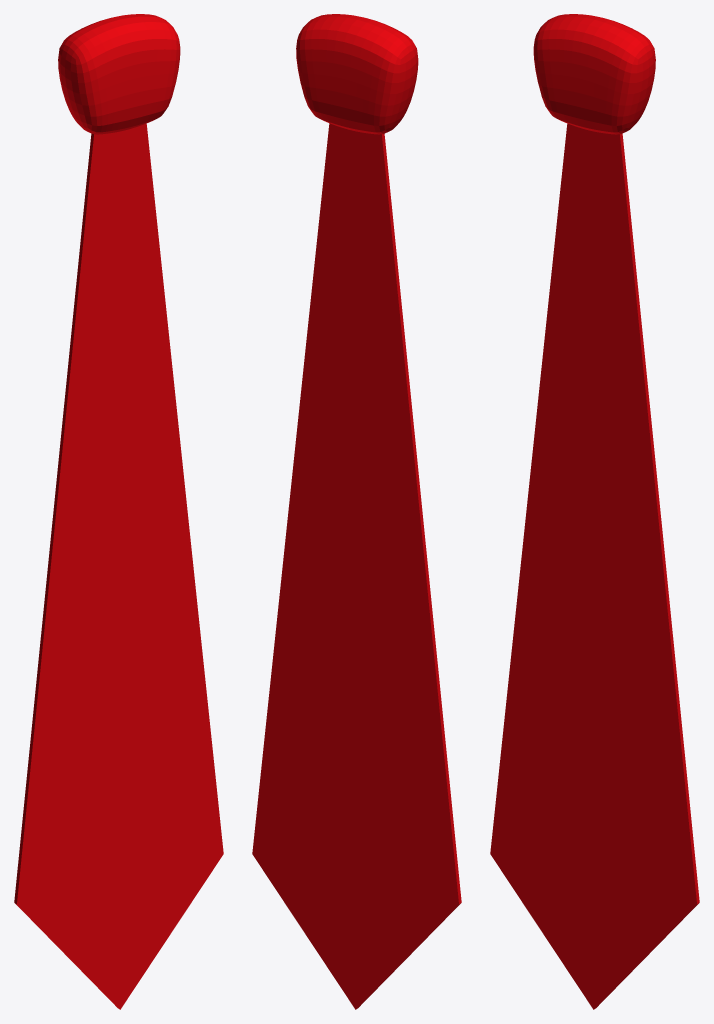
File: Neck Tie Asset.fbx
3 views of the same model, side by side, from view 1: azimuth 30°, elevation 25°; view 2: azimuth 150°, elevation 25°; view 3: azimuth 330°, elevation 25° (orthographic).
Parts seen in each view (by area): view 1: Neck Tie; view 2: Neck Tie; view 3: Neck Tie.
Boxes of the visible parts, x1,y1,x2,y2 form: Neck Tie: (14, 14, 223, 1009); Neck Tie: (252, 14, 461, 1009); Neck Tie: (490, 14, 699, 1009).
Bounding box in the file's own units: 21.77 × 99.51 × 5.43.
